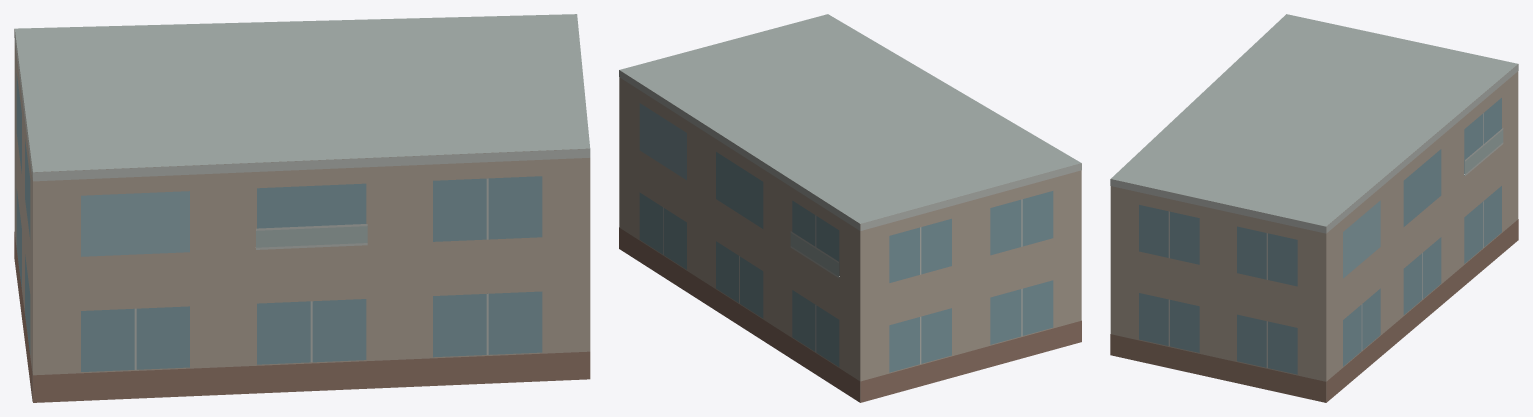
File: survey-upis-32777434.glb
The picture shows the model from 3 angles, left to right: view 1: azimuth 30°, elevation 25°; view 2: azimuth 150°, elevation 25°; view 3: azimuth 270°, elevation 25°; orthographic projection. The views are drawn at different scales.
Parts seen in each view (by area): view 1: survey-upis-32777434.tmp; view 2: survey-upis-32777434.tmp; view 3: survey-upis-32777434.tmp.
Part boxes in pixels (x1=…): survey-upis-32777434.tmp: x1=14, y1=14, x2=590, y2=402; survey-upis-32777434.tmp: x1=619, y1=14, x2=1081, y2=402; survey-upis-32777434.tmp: x1=1110, y1=14, x2=1518, y2=402.
Size of the model in its own units: 15.79 by 6.1 by 12.81.
